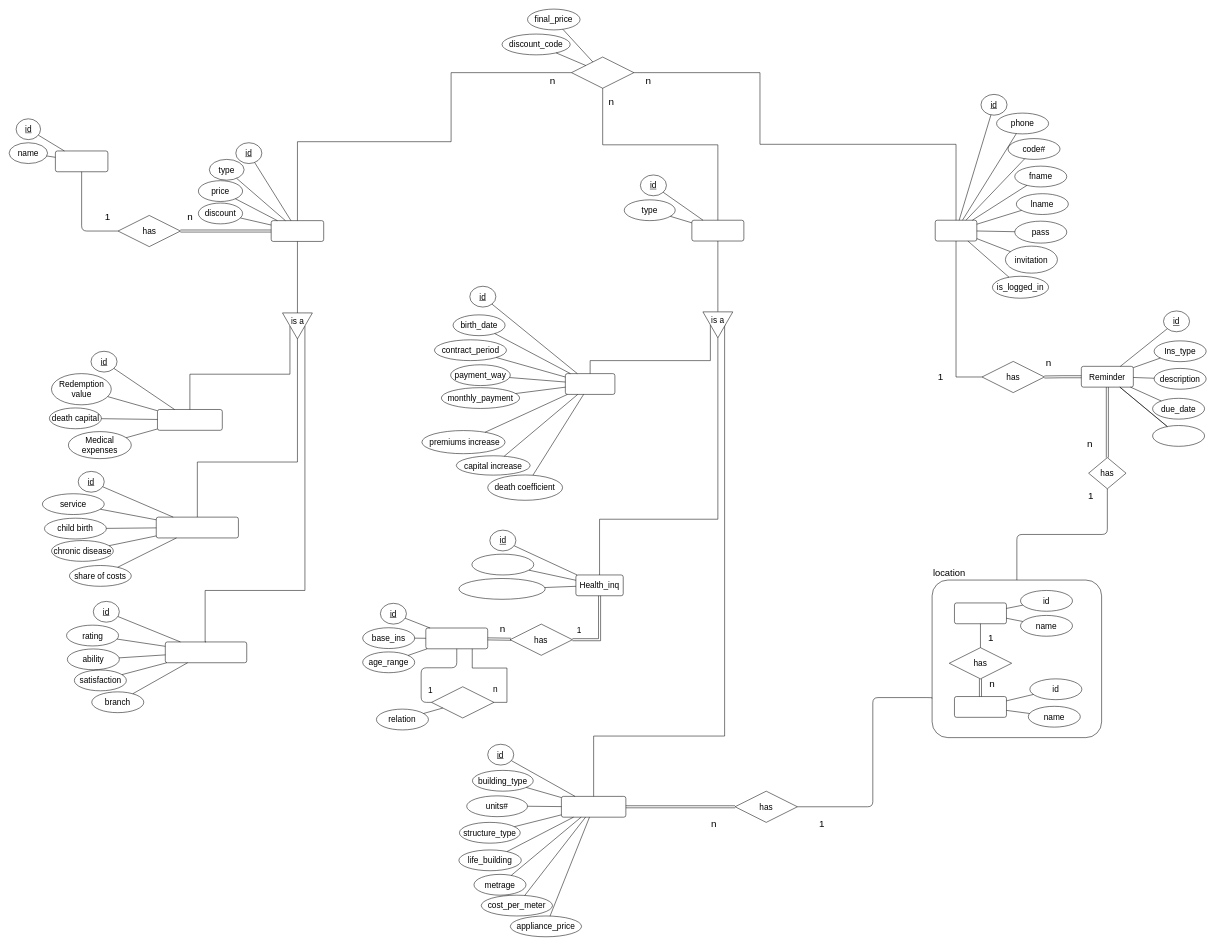
The diagram is 1215 pixels wide and 946 high, and some of its shapes have lost their labels. The centre of each missing label's shape, as x and y in pixels:
buy: (602,72)
city: (980,706)
company: (81,161)
count_of_memeber: (501,588)
head: (462,702)
Health_insururance: (197,527)
Inquiry: (717,230)
Insurance: (297,230)
is_family: (502,564)
Life_Inq: (590,383)
Life_insurance: (189,419)
Memeber: (456,638)
period: (1178,435)
Property_inq: (593,806)
Property_insurance: (206,652)
province: (980,613)
User: (956,230)
